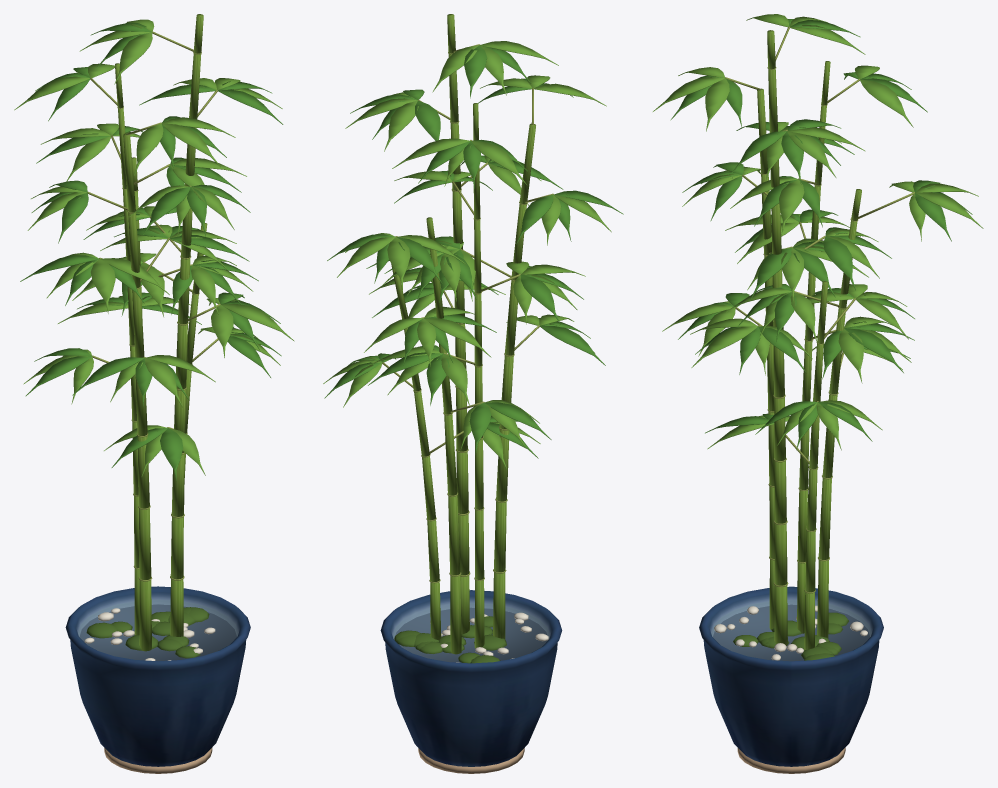
The model's file is bamboopot.glb.
3 renders of one model, left to right at view 1: azimuth 30°, elevation 25°; view 2: azimuth 150°, elevation 25°; view 3: azimuth 270°, elevation 25°, orthographic.
Visible parts, largest first — view 1: BambooLeaves, BambooPot, BambooCulm1_0, BambooPotFoot, BambooCulm1_1, BambooCulm0_1, BambooCulm0_0, BambooCulm1_2, BambooCulm0_2, BambooCulm1_4, BambooCulm1_6, BambooCulm1_5 (+5 smaller); view 2: BambooLeaves, BambooPot, BambooCulm2_0, BambooCulm1_0, BambooCulm2_1, BambooPotFoot, BambooCulm1_1, BambooCulm2_2, BambooCulm0_2, BambooCulm4_0, BambooCulm1_2, BambooCulm4_1 (+12 smaller); view 3: BambooLeaves, BambooPot, BambooCulm2_0, BambooPotFoot, BambooCulm2_1, BambooCulm0_1, BambooCulm0_0, BambooCulm0_2, BambooCulm4_1, BambooCulm3_1, BambooCulm0_3, BambooCulm3_0 (+2 smaller).
Part boxes in pixels (x1,y1,x2,y2): BambooLeaves: (14, 19, 294, 481); BambooPot: (65, 586, 250, 766); BambooCulm1_0: (139, 580, 151, 651); BambooPotFoot: (104, 748, 212, 773); BambooCulm1_1: (139, 508, 151, 579); BambooCulm0_1: (170, 517, 183, 579); BambooCulm0_0: (170, 579, 183, 636); BambooCulm1_2: (137, 436, 149, 508); BambooCulm0_2: (171, 454, 184, 516); BambooCulm1_4: (132, 288, 144, 357); BambooCulm1_6: (123, 133, 135, 212); BambooCulm1_5: (128, 212, 140, 287); BambooLeaves: (323, 41, 623, 470); BambooPot: (380, 590, 562, 766); BambooCulm2_0: (450, 575, 461, 654); BambooCulm1_0: (493, 572, 505, 639); BambooCulm2_1: (448, 495, 460, 575); BambooPotFoot: (418, 748, 524, 773); BambooCulm1_1: (493, 501, 506, 572); BambooCulm2_2: (444, 414, 457, 495); BambooCulm0_2: (456, 452, 468, 513); BambooCulm4_0: (474, 580, 484, 648); BambooCulm1_2: (496, 429, 509, 501); BambooCulm4_1: (475, 510, 484, 579); BambooLeaves: (653, 14, 983, 450); BambooPot: (699, 586, 883, 766); BambooCulm2_0: (817, 560, 828, 638); BambooPotFoot: (737, 747, 845, 773); BambooCulm2_1: (818, 478, 831, 559); BambooCulm0_1: (774, 524, 787, 585); BambooCulm0_0: (774, 586, 787, 646); BambooCulm0_2: (774, 461, 786, 523); BambooCulm4_1: (797, 490, 807, 562); BambooCulm3_1: (805, 531, 815, 592); BambooCulm0_3: (774, 397, 785, 460); BambooCulm3_0: (804, 592, 814, 650).
Bounding box in the file's own units: 0.5844 × 1.56 × 0.637.
9 materials, 2 textured.
